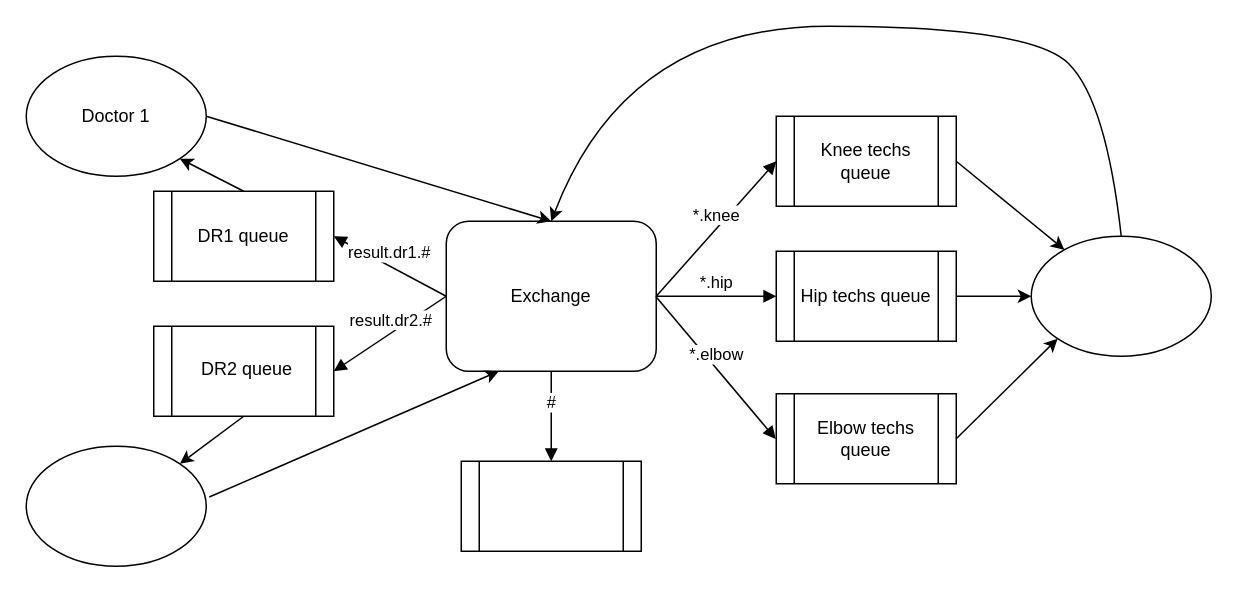
Image size: 1238x593. Some labels were removed from this diagram. Each missing label, with the centre of its shape:
Admin queue: the point at 550,505
Doctor 2: the point at 115,505
Techs: the point at 1120,295
